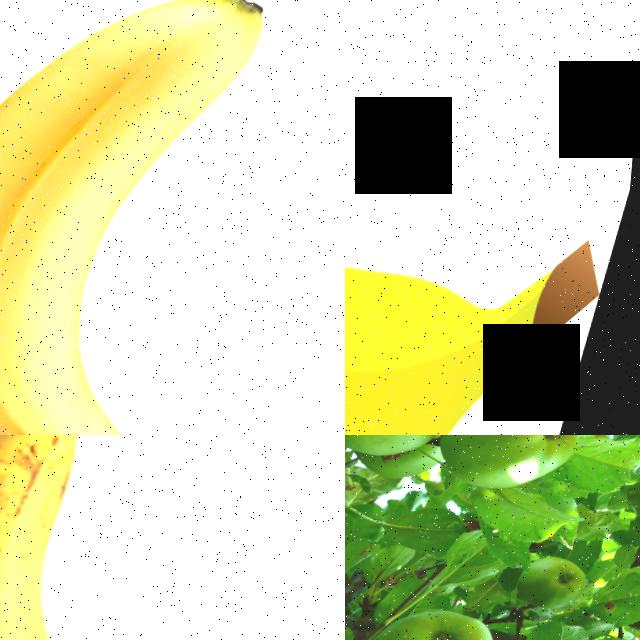apple: (429, 435, 595, 525), (345, 435, 500, 502), (345, 590, 521, 640), (516, 550, 607, 638)
banana: (0, 0, 345, 435), (345, 0, 640, 435), (0, 435, 345, 640)
